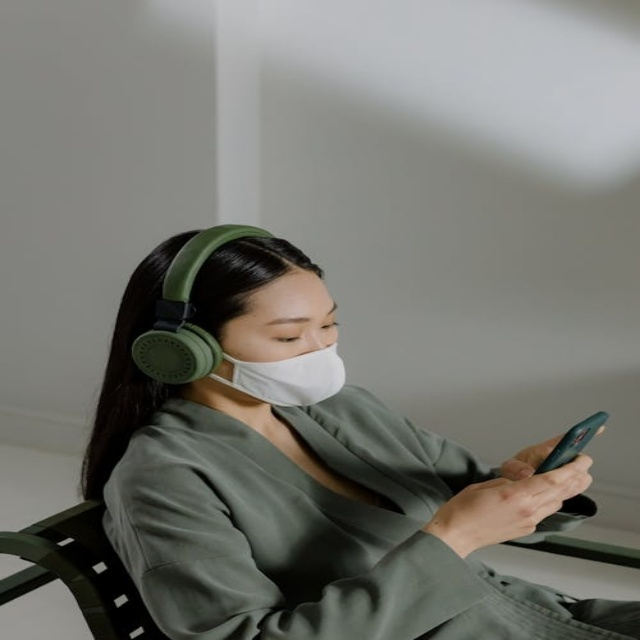Mascara: (204, 340, 349, 409)
Sin_gafas: (261, 300, 353, 348)
Sin_guantes: (440, 450, 595, 549), (484, 414, 616, 478)
